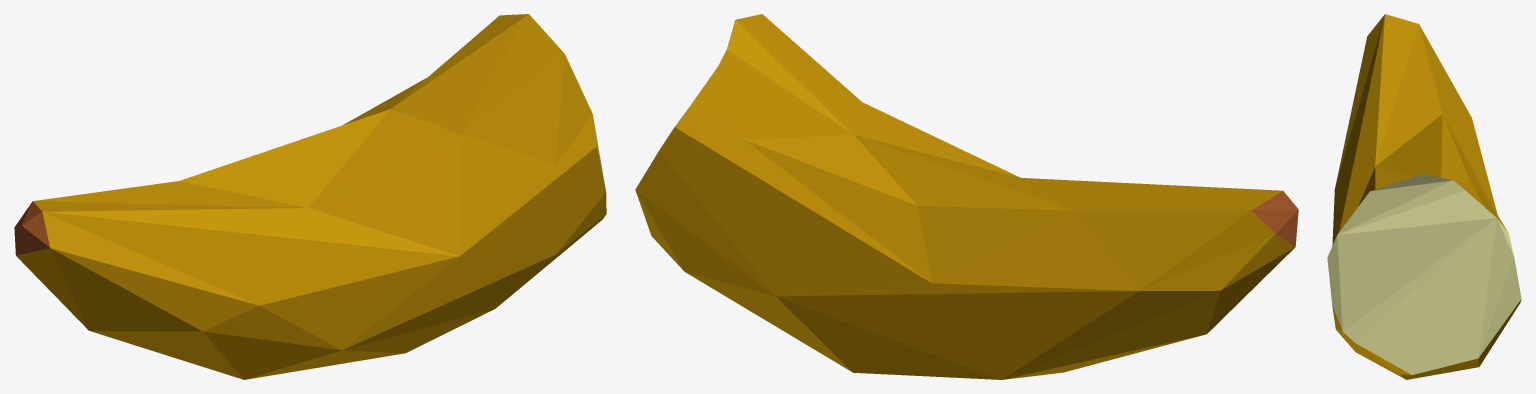
File: Banana_2.fbx
3 renders of one model, left to right at view 1: azimuth 30°, elevation 25°; view 2: azimuth 150°, elevation 25°; view 3: azimuth 270°, elevation 25°, orthographic. The views are drawn at different scales.
Parts seen in each view (by area): view 1: Cylinder.019; view 2: Cylinder.019; view 3: Cylinder.019.
Part boxes in pixels (left/top/right/bottom): Cylinder.019: left=14, top=14, right=606, bottom=379; Cylinder.019: left=635, top=14, right=1298, bottom=379; Cylinder.019: left=1327, top=14, right=1521, bottom=379.
Size of the model in its own units: 149 by 210 by 428.
